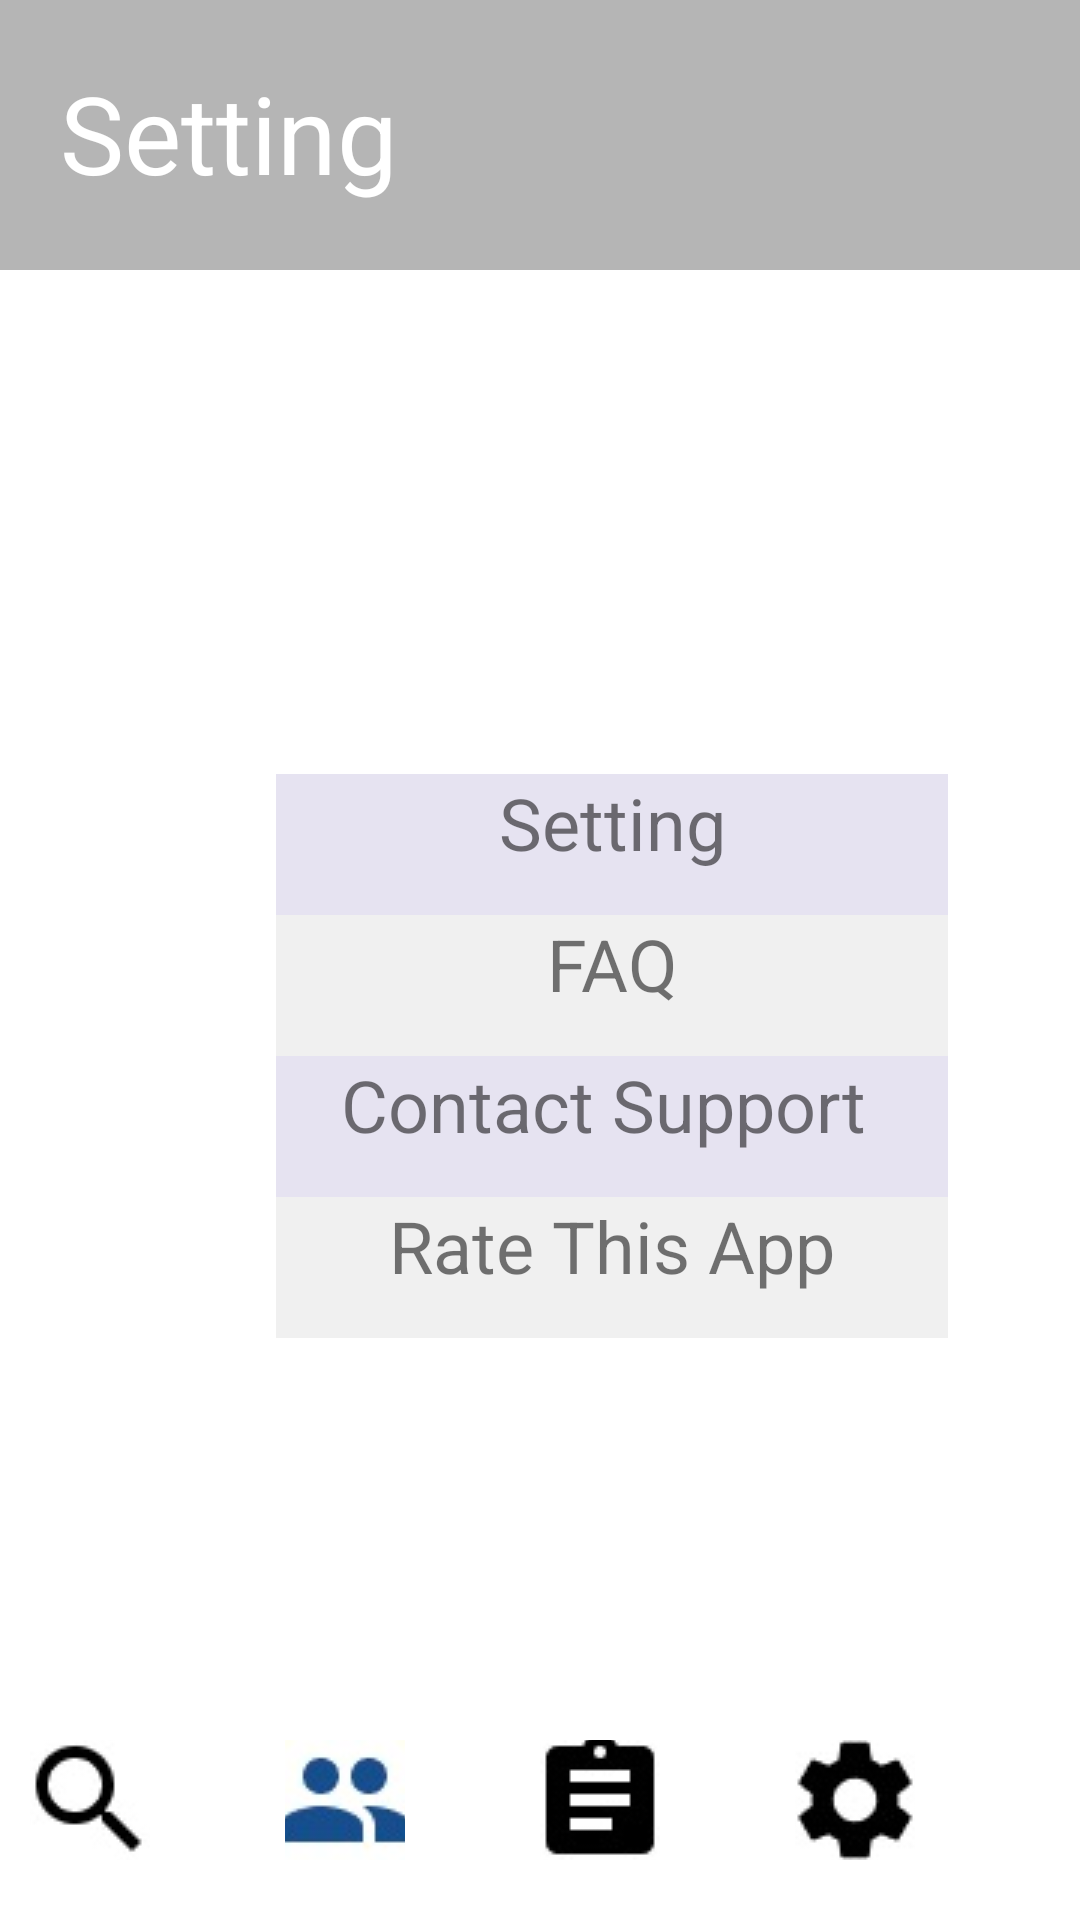

Icons on this 1080px x 1920px Android screen, each with the point to tap as (x=x, y=y):
course list: (x=600, y=1797)
people: (x=345, y=1800)
search: (x=88, y=1798)
setting: (x=855, y=1800)
